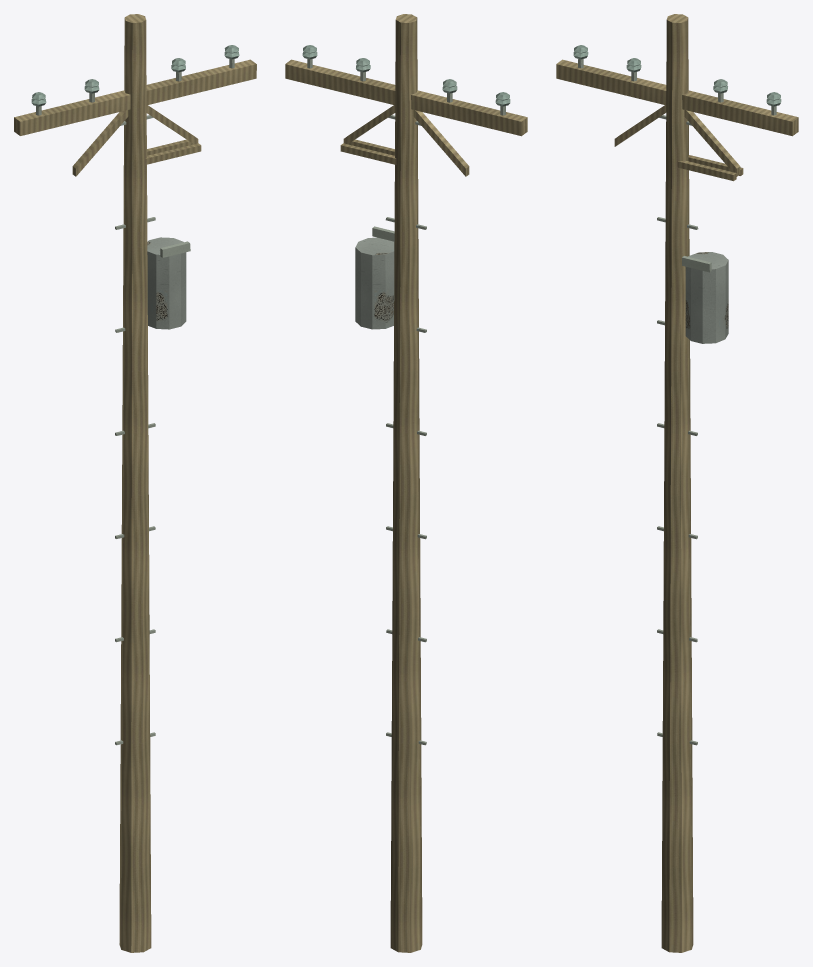
File: utilpole_v1.glb
3 renders of one model, left to right at view 1: azimuth 30°, elevation 25°; view 2: azimuth 150°, elevation 25°; view 3: azimuth 330°, elevation 25°, orthographic.
Visible parts, largest first — view 1: Variant_utilpole_1; view 2: Variant_utilpole_1; view 3: Variant_utilpole_1.
Boxes of the visible parts, left/top/right/bottom form: Variant_utilpole_1: left=14, top=14, right=256, bottom=952; Variant_utilpole_1: left=285, top=14, right=527, bottom=952; Variant_utilpole_1: left=556, top=14, right=798, bottom=952.
Bounding box in the file's own units: 2.4 × 9 × 0.3807.
4 materials, 4 textured.
